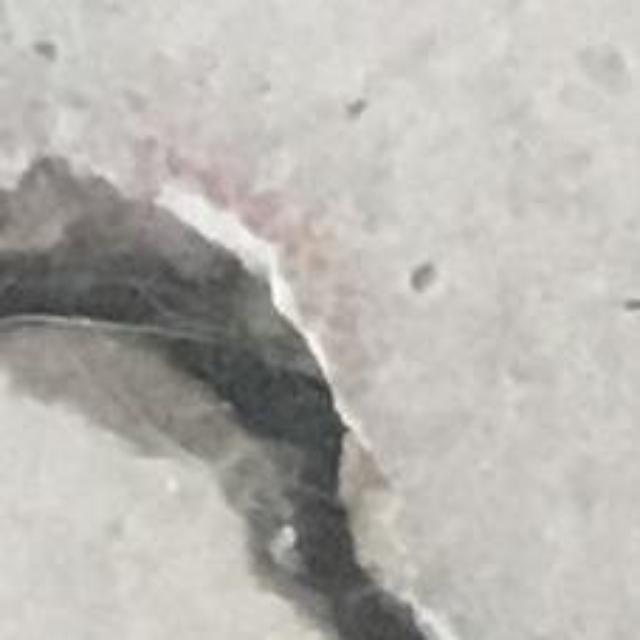crack: (0, 158, 425, 639)
